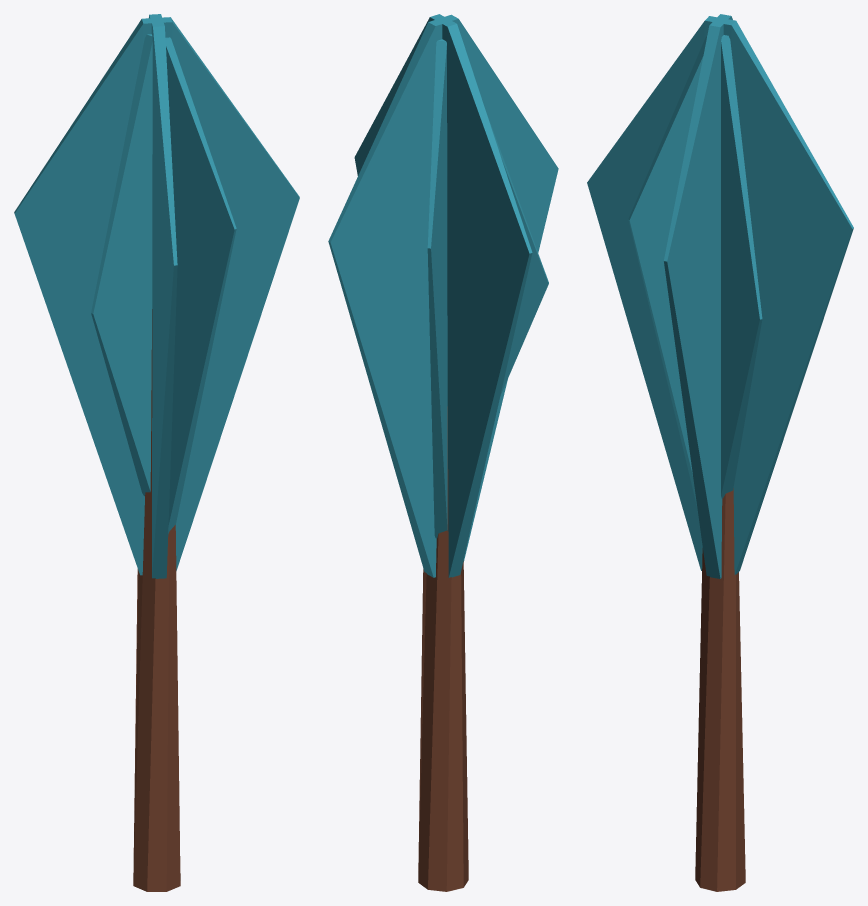
Rendered from Tree_31_summer_blue_vc.fbx.
3 renders of one model, left to right at view 1: azimuth 30°, elevation 25°; view 2: azimuth 150°, elevation 25°; view 3: azimuth 270°, elevation 25°, orthographic.
Visible parts, largest first — view 1: Tree_31_summer_blue_vc; view 2: Tree_31_summer_blue_vc; view 3: Tree_31_summer_blue_vc.
Boxes of the visible parts, bbox=[...] form: Tree_31_summer_blue_vc: bbox=[14, 14, 299, 891]; Tree_31_summer_blue_vc: bbox=[328, 14, 558, 891]; Tree_31_summer_blue_vc: bbox=[587, 14, 853, 891].
Bounding box in the file's own units: 84.61 × 301 × 84.61.
